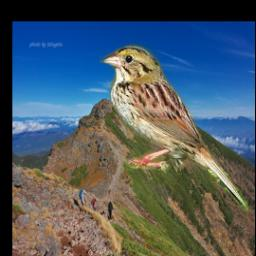Sparrow: (101, 43, 249, 212)
